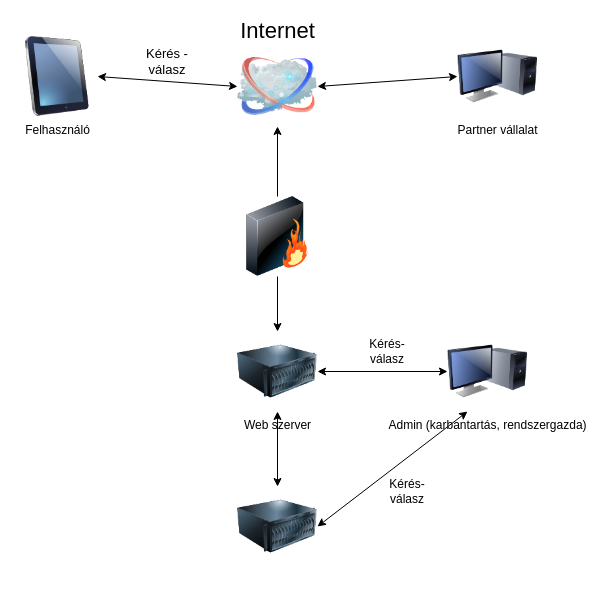
This 603x604 diagram has some shape labels left out. Here are the shapes that lost their labels. From the top down, the centre of each, then its label:
(277,236): Tűzfal
(277,526): Adatbázis szerver
